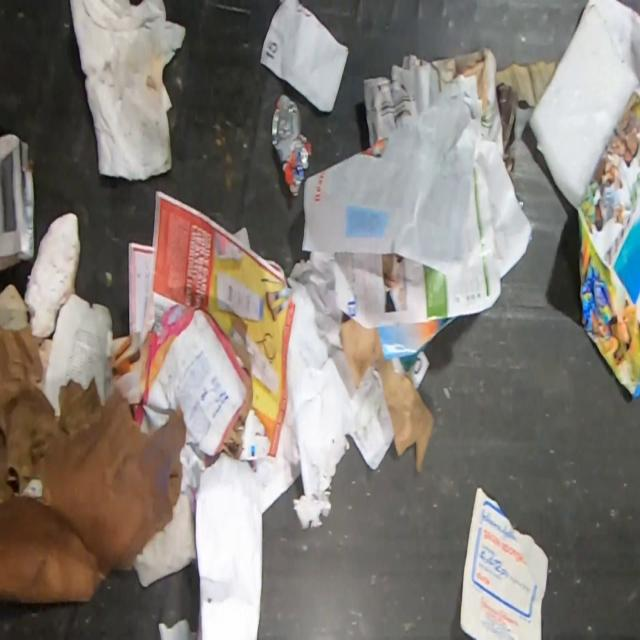cardboard: (0, 323, 98, 503), (0, 132, 35, 276)
metal: (270, 92, 312, 199)
